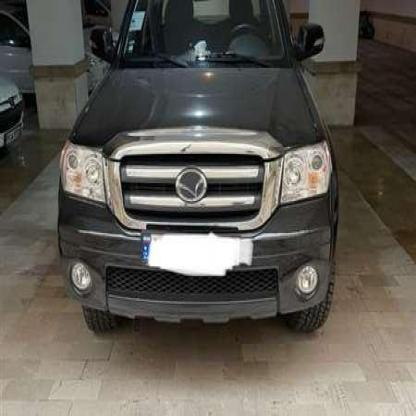Car: (60, 3, 341, 346), (0, 0, 125, 96), (0, 71, 24, 173)
